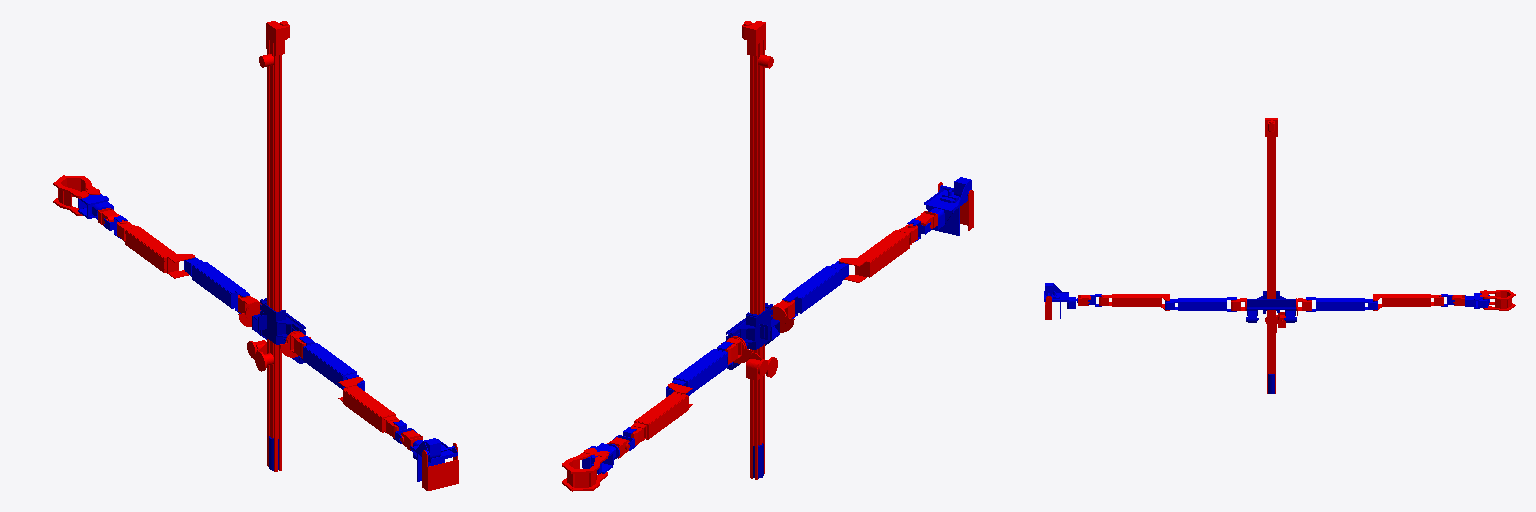
URDF robot description (manipulator):
<?xml version="1.0"?>
<robot name="manipulator">
  <material name="red">
    <color rgba="1.0 0.0 0.0 1.0"/>
  </material>
  <material name="green">
    <color rgba="0.0 1.0 0.0 1.0"/>
  </material>
  <material name="blue">
    <color rgba="0.0 0.0 1.0 1.0"/>
  </material>

  <link name="world"/>
  <joint name="world2base" type="fixed">
    <parent link="world"/>
    <child link="base_link"/>
  </joint>
  <link name="base_link">
    <visual>
      <origin xyz="0 0 0.044" rpy="0 0 0" />
      <geometry>
        <cylinder radius="0.015" length="0.088"/>
      </geometry>
      <material name="blue">
        <color rgba="0 0 .8 1"/>
      </material>
    </visual>
    <inertial>
      <mass value="0.5"/>
      <origin xyz="0 0 0"/>
      <inertia ixx="1.0" ixy="0.0" ixz="0.0" iyy="1.0" iyz="0.0" izz="1.0"/>
    </inertial>

  </link>
  <joint name="spine_joint" type="fixed">
    <parent link="base_link"/>
    <child link="spine_link"/>
  </joint>

  <link name="spine_link">
    <inertial>
      <mass value="0.5"/>
      <origin xyz="0 0 0"/>
      <inertia ixx="1.0" ixy="0.0" ixz="0.0" iyy="1.0" iyz="0.0" izz="1.0"/>
    </inertial>
    <visual>
      <geometry>
        <mesh filename="package://orne_or_description/meshes/body_link.stl"/>
      </geometry>
      <material name="red"/>
    </visual>
    <collision>
      <origin xyz="0 0 0.55" rpy="0 0 0"/>
      <geometry>
        <box size="0.0330 0.0520 1.1"/>
      </geometry>
    </collision>
  </link>

  <joint name="sholder_slider" type="prismatic">
    <origin xyz="0 0 0.4" rpy="0 0 0"/>
    <parent link="spine_link"/>
    <child link="sholder_link"/>
    <axis xyz="0 0 1"/>
    <limit effort="1000" lower="-0.2" upper="1.4" velocity="1.0"/>
  </joint>

  <link name="sholder_link">
    <inertial>
      <mass value="0.5"/>
      <origin xyz="0 0 0"/>
      <inertia ixx="1.0" ixy="0.0" ixz="0.0" iyy="1.0" iyz="0.0" izz="1.0"/>
    </inertial>
    <visual>
      <origin xyz="0 0 0" rpy="0 0 0"/>
      <geometry>
        <mesh filename="package://orne_or_description/meshes/shoulder_link.stl"/>
      </geometry>
      <material name="blue">
        <color rgba="0 0 .8 1"/>
      </material>
    </visual>
    <collision>
      <origin xyz="0.0 0.0 0.0" rpy="0 0 0"/>
      <geometry>
        <box size="0.0330 0.28 0.0320"/>
      </geometry>
    </collision>
  </link>

  <gazebo reference="sholder_link">
    <material>Gazebo/Blue</material>
  </gazebo>
  <transmission name="trans_sholder_slider">
    <type>transmission_interface/SimpleTransmission</type>
    <joint name="sholder_slider">
      <hardwareInterface>PositionJointInterface</hardwareInterface>
    </joint>
    <actuator name="motor_sholder_slider">
      <hardwareInterface>PositionJointInterface</hardwareInterface>
      <mechanicalReduction>1</mechanicalReduction>
    </actuator>
  </transmission>


  <!--left arm-->
  <joint name="l_sholder_pitch_joint" type="revolute">
    <origin xyz="0.000 0.100 0.000"/>
    <parent link="sholder_link"/>
    <child link="l_sholder_pitch_link"/>
    <axis xyz="0 1 0"/> 
    <limit lower="-1" upper="1" effort="30" velocity="1.571"/>
  </joint>

  <link name="l_sholder_pitch_link">
    <inertial>
      <mass value="0.5"/>
      <origin xyz="0 0 0"/>
      <inertia ixx="1.0" ixy="0.0" ixz="0.0" iyy="1.0" iyz="0.0" izz="1.0"/>
    </inertial>
    <visual>
      <geometry>
        <mesh filename="package://orne_or_description/meshes/sholder_pitch_link.stl"/>
      </geometry>
      <material name="red"/>
    </visual>
    <collision>
      <origin xyz="0.0 0.025 0.0"/>
      <geometry>
        <box size="0.0320 0.050 0.0320"/>
      </geometry>
    </collision>
  </link>
  <gazebo reference="l_sholder_pitch_link">
    <material>Gazebo/Red</material>
  </gazebo>
  <transmission name="trans_l_sholder_pitch">
    <type>transmission_interface/SimpleTransmission</type>
    <joint name="l_sholder_pitch_joint">
      <hardwareInterface>PositionJointInterface</hardwareInterface>
    </joint>
    <actuator name="motor_l_sholder_pitch">
      <hardwareInterface>PositionJointInterface</hardwareInterface>
      <mechanicalReduction>1</mechanicalReduction>
    </actuator>
  </transmission>

  <joint name="l_sholder_roll_joint" type="revolute">
    <origin xyz="0.000 0.0563 0.000"/>
    <parent link="l_sholder_pitch_link"/>
    <child link="l_sholder_roll_link"/>
    <axis xyz="0 0 1"/> 
    <limit lower="-1.57" upper="1.57" effort="30" velocity="1.571"/>
  </joint>

  <link name="l_sholder_roll_link">
    <inertial>
      <mass value="0.5"/>
      <origin xyz="0 0 0"/>
      <inertia ixx="1.0" ixy="0.0" ixz="0.0" iyy="1.0" iyz="0.0" izz="1.0"/>
    </inertial>
    <visual>
      <geometry>
        <mesh filename="package://orne_or_description/meshes/sholder_roll_link.stl"/>
      </geometry>
      <material name="blue"/>
    </visual>
    <collision>
      <origin xyz="0.000 0.135 0.000"/>
      <geometry>
        <box size="0.042 0.200 0.042"/>
      </geometry>
    </collision>
  </link>
  <gazebo reference="l_sholder_roll_link">
    <material>Gazebo/Blue</material>
  </gazebo>
  <transmission name="trans_l_sholder_roll">
    <type>transmission_interface/SimpleTransmission</type>
    <joint name="l_sholder_roll_joint">
      <hardwareInterface>PositionJointInterface</hardwareInterface>
    </joint>
    <actuator name="motor_l_sholder_roll">
      <hardwareInterface>PositionJointInterface</hardwareInterface>
      <mechanicalReduction>1</mechanicalReduction>
    </actuator>
  </transmission>

  <joint name="l_elbow_roll_joint" type="revolute">
    <origin xyz="0.000 0.2713 0.000"/>
    <parent link="l_sholder_roll_link"/>
    <child link="l_elbow_roll_link"/>
    <axis xyz="0 0 -1"/> 
    <limit lower="0.0" upper="3.14" effort="30" velocity="1.571"/>
  </joint>

  <link name="l_elbow_roll_link">
    <inertial>
      <mass value="0.5"/>
      <origin xyz="0 0 0"/>
      <inertia ixx="1.0" ixy="0.0" ixz="0.0" iyy="1.0" iyz="0.0" izz="1.0"/>
    </inertial>
    <visual>
      <geometry>
        <mesh filename="package://orne_or_description/meshes/elbow_roll_link.stl"/>
      </geometry>
      <material name="red"/>
    </visual>
    <collision>
      <origin xyz="0.000 0.135 0.000"/>
      <geometry>
        <box size="0.042 0.180 0.042"/>
      </geometry>
    </collision>
  </link>
  <gazebo reference="l_elbow_roll_link">
    <material>Gazebo/Red</material>
  </gazebo>
  <transmission name="trans_l_elbow_roll">
    <type>transmission_interface/SimpleTransmission</type>
    <joint name="l_elbow_roll_joint">
      <hardwareInterface>PositionJointInterface</hardwareInterface>
    </joint>
    <actuator name="motor_l_elbow_roll">
      <hardwareInterface>PositionJointInterface</hardwareInterface>
      <mechanicalReduction>1</mechanicalReduction>
    </actuator>
  </transmission>

  <joint name="l_wrist_roll_joint" type="revolute">
    <origin xyz="-0.042 0.2713 0.000"/>
    <parent link="l_elbow_roll_link"/>
    <child link="l_wrist_roll_link"/>
    <axis xyz="0 0 1"/> 
    <limit lower="-1.57" upper="1.57" effort="30" velocity="1.571"/>
  </joint>

  <link name="l_wrist_roll_link">
    <inertial>
      <mass value="0.5"/>
      <origin xyz="0 0 0"/>
      <inertia ixx="1.0" ixy="0.0" ixz="0.0" iyy="1.0" iyz="0.0" izz="1.0"/>
    </inertial>
    <visual>
      <geometry>
        <mesh filename="package://orne_or_description/meshes/wrist_roll_link.stl"/>
      </geometry>
      <material name="blue"/>
    </visual>
    <collision>
      <origin xyz="0.000 0.016 0.000" rpy="0 0 0"/>
      <geometry>
        <box size="0.0330 0.0320 0.0320"/>
      </geometry>
    </collision>
  </link>
  <gazebo reference="l_wrist_roll_link">
    <material>Gazebo/Blue</material>
  </gazebo>
  <transmission name="trans_l_wrist_roll">
    <type>transmission_interface/SimpleTransmission</type>
    <joint name="l_wrist_roll_joint">
      <hardwareInterface>PositionJointInterface</hardwareInterface>
    </joint>
    <actuator name="motor_l_wrist_roll">
      <hardwareInterface>PositionJointInterface</hardwareInterface>
      <mechanicalReduction>1</mechanicalReduction>
    </actuator>
  </transmission>

  <joint name="l_wrist_pitch_joint" type="revolute">
    <origin xyz="0.000 0.054 0.000"/>
    <parent link="l_wrist_roll_link"/>
    <child link="l_wrist_pitch_link"/>
    <axis xyz="1 0 0"/> 
    <limit lower="-1.57" upper="1.57" effort="30" velocity="1.571"/>
  </joint>

  <link name="l_wrist_pitch_link">
    <inertial>
      <mass value="0.5"/>
      <origin xyz="0 0 0"/>
      <inertia ixx="1.0" ixy="0.0" ixz="0.0" iyy="1.0" iyz="0.0" izz="1.0"/>
    </inertial>
    <visual>
      <geometry>
        <mesh filename="package://orne_or_description/meshes/l_wrist_pitch_link.stl"/>
      </geometry>
      <material name="red"/>
    </visual>
    <collision>
      <origin xyz="0.000 0.016 0.000"/>
      <geometry>
        <box size="0.0330 0.0320 0.0320"/>
      </geometry>
    </collision>
  </link>
  <gazebo reference="l_wrist_pitch_link">
    <material>Gazebo/Red</material>
  </gazebo>
  <transmission name="trans_l_wrist_pitch">
    <type>transmission_interface/SimpleTransmission</type>
    <joint name="l_wrist_pitch_joint">
      <hardwareInterface>PositionJointInterface</hardwareInterface>
    </joint>
    <actuator name="motor_l_wrist_pitch">
      <hardwareInterface>PositionJointInterface</hardwareInterface>
      <mechanicalReduction>1</mechanicalReduction>
    </actuator>
  </transmission>

  <joint name="l_wrist_yaw_joint" type="revolute">
    <origin xyz="0.000 0.0443 0.000"/>
    <parent link="l_wrist_pitch_link"/>
    <child link="l_wrist_yaw_link"/>
    <axis xyz="0 1 0"/> 
    <limit lower="-3.14" upper="3.14" effort="30" velocity="1.571"/>
  </joint>

  <link name="l_wrist_yaw_link">
    <inertial>
      <mass value="0.5"/>
      <origin xyz="0 0 0"/>
      <inertia ixx="1.0" ixy="0.0" ixz="0.0" iyy="1.0" iyz="0.0" izz="1.0"/>
    </inertial>
    <visual>
      <geometry>
        <mesh filename="package://orne_or_description/meshes/l_wrist_yaw_link.stl"/>
      </geometry>
      <material name="blue"/>
    </visual>
    <collision>
      <origin xyz="0 0 0"/>
      <geometry>
        <box size="0.0330 0.0320 0.0320"/>
      </geometry>
    </collision>
  </link>
  <gazebo reference="l_wrist_yaw_link">
    <material>Gazebo/Blue</material>
  </gazebo>
  <transmission name="trans_l_wrist_yaw">
    <type>transmission_interface/SimpleTransmission</type>
    <joint name="l_wrist_yaw_joint">
      <hardwareInterface>PositionJointInterface</hardwareInterface>
    </joint>
    <actuator name="motor_l_wrist_yaw">
      <hardwareInterface>PositionJointInterface</hardwareInterface>
      <mechanicalReduction>1</mechanicalReduction>
    </actuator>
  </transmission>

  <joint name="l_hand_left_joint" type="revolute">
    <origin xyz="-0.0226 0.083 0.000" rpy="0 0 0"/>
    <parent link="l_wrist_yaw_link"/>
    <child link="l_hand_left_link"/>
    <axis xyz="0 0 1"/> 
    <limit lower="0" upper="1.57" effort="30" velocity="1.571"/>
  </joint>

  <link name="l_hand_left_link">
    <inertial>
      <mass value="0.5"/>
      <origin xyz="0 0 0"/>
      <inertia ixx="1.0" ixy="0.0" ixz="0.0" iyy="1.0" iyz="0.0" izz="1.0"/>
    </inertial>
    <visual>
      <geometry>
        <mesh filename="package://orne_or_description/meshes/l_hand_left_link.stl"/>
      </geometry>
      <material name="red"/>
    </visual>
    <collision>
      <origin xyz="0 0 0" rpy="0 0 0"/>
      <geometry>
        <mesh filename="package://orne_or_description/meshes/l_hand_left_link.stl"/>
      </geometry>
    </collision>
  </link>
  <gazebo reference="l_hand_left_link">
    <material>Gazebo/Red</material>
  </gazebo>
  <transmission name="trans_l_hand_left">
    <type>transmission_interface/SimpleTransmission</type>
    <joint name="l_hand_left_joint">
      <hardwareInterface>PositionJointInterface</hardwareInterface>
    </joint>
    <actuator name="motor_l_hand_left">
      <hardwareInterface>PositionJointInterface</hardwareInterface>
      <mechanicalReduction>1</mechanicalReduction>
    </actuator>
  </transmission>
  
   <joint name="l_hand_right_joint" type="revolute">
    <origin xyz="0.0225 0.083 0.000" rpy="0 0 0"/>
    <parent link="l_wrist_yaw_link"/>
    <child link="l_hand_right_link"/>
    <axis xyz="0 0 -1"/>
    <mimic joint="l_hand_left_joint" multiplier="1.0" offset="0.0" /> 
    <limit lower="-3.14" upper="3.14" effort="30" velocity="1.571"/>
  </joint>

  <link name="l_hand_right_link">
    <inertial>
      <mass value="0.5"/>
      <origin xyz="0 0 0"/>
      <inertia ixx="1.0" ixy="0.0" ixz="0.0" iyy="1.0" iyz="0.0" izz="1.0"/>
    </inertial>
    <visual>
      <geometry>
        <mesh filename="package://orne_or_description/meshes/l_hand_right_link.stl"/>
      </geometry>
      <material name="red"/>
    </visual>
    <collision>
      <origin xyz="0 0 0" rpy="0 0 0"/>
      <geometry>
        <mesh filename="package://orne_or_description/meshes/l_hand_right_link.stl"/>
      </geometry>
    </collision>
  </link>
  <gazebo reference="l_hand_right_link">
    <material>Gazebo/Red</material>
  </gazebo>
  <transmission name="trans_l_right_hand">
    <type>transmission_interface/SimpleTransmission</type>
    <joint name="l_hand_right_joint">
      <hardwareInterface>PositionJointInterface</hardwareInterface>
    </joint>
    <actuator name="motor_l_hand_right">
      <hardwareInterface>PositionJointInterface</hardwareInterface>
      <mechanicalReduction>1</mechanicalReduction>
    </actuator>
  </transmission>

  <!--right arm-->

  <joint name="r_sholder_pitch_joint" type="revolute">
    <origin xyz="0.000 -0.100 0.000"/>
    <parent link="sholder_link"/>
    <child link="r_sholder_pitch_link"/>
    <axis xyz="0 1 0"/>
    <limit lower="-1" upper="1" effort="30" velocity="1.571"/>
  </joint>

  <link name="r_sholder_pitch_link">
    <inertial>
      <mass value="0.5"/>
      <origin xyz="0 0 0"/>
      <inertia ixx="1.0" ixy="0.0" ixz="0.0" iyy="1.0" iyz="0.0" izz="1.0"/>
    </inertial>
    <visual>
      <origin rpy="0 0 3.14159"/>
      <geometry>
        <mesh filename="package://orne_or_description/meshes/sholder_pitch_link.stl"/>
      </geometry>
      <material name="red"/>
    </visual>
    <collision>
      <origin xyz="0.0 -0.025 0.0" rpy="0 0 0"/>
      <geometry>
        <box size="0.0330 0.05 0.0320"/>
      </geometry>
    </collision>
  </link>
  <gazebo reference="r_sholder_pitch_link">
    <material>Gazebo/Red</material>
  </gazebo>
  <transmission name="trans_r_sholder_pitch">
    <type>transmission_interface/SimpleTransmission</type>
    <joint name="r_sholder_pitch_joint">
      <hardwareInterface>PositionJointInterface</hardwareInterface>
    </joint>
    <actuator name="motor_r_sholder_pitch">
      <hardwareInterface>PositionJointInterface</hardwareInterface>
      <mechanicalReduction>1</mechanicalReduction>
    </actuator>
  </transmission>

  <joint name="r_sholder_roll_joint" type="revolute">
    <origin xyz="0.000 -0.0563 0.000"/>
    <parent link="r_sholder_pitch_link"/>
    <child link="r_sholder_roll_link"/>
    <axis xyz="0 0 1"/> 
    <limit lower="-1.57" upper="1.57" effort="30" velocity="1.571"/>
  </joint>

  <link name="r_sholder_roll_link">
    <inertial>
      <mass value="0.5"/>
      <origin xyz="0 0 0"/>
      <inertia ixx="1.0" ixy="0.0" ixz="0.0" iyy="1.0" iyz="0.0" izz="1.0" />
    </inertial>
    <visual>
      <origin rpy="0 0 3.14159"/>
      <geometry>
        <mesh filename="package://orne_or_description/meshes/sholder_roll_link.stl"/>
      </geometry>
      <material name="blue"/>
    </visual>
    <collision>
      <origin xyz="0.0 0.0 -0.09" rpy="0 0 0"/>
      <geometry>
        <box size="0.0330 0.0320 0.180"/>
      </geometry>
    </collision>
  </link>
  <gazebo reference="r_sholder_roll_link">
    <material>Gazebo/Blue</material>
  </gazebo>
  <transmission name="trans_r_sholder_roll">
    <type>transmission_interface/SimpleTransmission</type>
    <joint name="r_sholder_roll_joint">
      <hardwareInterface>PositionJointInterface</hardwareInterface>
    </joint>
    <actuator name="motor_r_sholder_roll">
      <hardwareInterface>PositionJointInterface</hardwareInterface>
      <mechanicalReduction>1</mechanicalReduction>
    </actuator>
  </transmission>

  <joint name="r_elbow_roll_joint" type="revolute">
    <origin xyz="0.000 -0.2713 0.000"/>
    <parent link="r_sholder_roll_link"/>
    <child link="r_elbow_roll_link"/>
    <axis xyz="0 0 1"/> 
    <limit lower="0.0" upper="3.14" effort="30" velocity="1.571"/>
  </joint>

  <link name="r_elbow_roll_link">
    <inertial>
      <mass value="0.5"/>
      <origin xyz="0 0 0"/>
      <inertia ixx="1.0" ixy="0.0" ixz="0.0" iyy="1.0" iyz="0.0" izz="1.0"/>
    </inertial>
    <visual>
      <origin rpy="0 3.14159 3.14159"/>
      <geometry>
        <mesh filename="package://orne_or_description/meshes/elbow_roll_link.stl"/>
      </geometry>
      <material name="red"/>
    </visual>
    <collision>
      <origin xyz="0.0 0.04 -0.09" rpy="0 0 0"/>
      <geometry>
        <box size="0.0330 0.0320 0.180"/>
      </geometry>
    </collision>
  </link>
  <gazebo reference="r_elbow_roll_link">
    <material>Gazebo/Red</material>
  </gazebo>
  <transmission name="trans_r_elbow_roll">
    <type>transmission_interface/SimpleTransmission</type>
    <joint name="r_elbow_roll_joint">
      <hardwareInterface>PositionJointInterface</hardwareInterface>
    </joint>
    <actuator name="motor_r_elbow_roll">
      <hardwareInterface>PositionJointInterface</hardwareInterface>
      <mechanicalReduction>1</mechanicalReduction>
    </actuator>
  </transmission>

  <joint name="r_wrist_roll_joint" type="revolute">
    <origin xyz="-0.042 -0.2713 0.000"/>
    <parent link="r_elbow_roll_link"/>
    <child link="r_wrist_roll_link"/>
    <axis xyz="0 0 1"/> 
    <limit lower="-1.57" upper="1.57" effort="30" velocity="1.571"/>
  </joint>

  <link name="r_wrist_roll_link">
    <inertial>
      <mass value="0.5"/>
      <origin xyz="0 0 0"/>
      <inertia ixx="1.0" ixy="0.0" ixz="0.0" iyy="1.0" iyz="0.0" izz="1.0"/>
    </inertial>
    <visual>
      <origin rpy="0 0 3.14159"/>
      <geometry>
        <mesh filename="package://orne_or_description/meshes/wrist_roll_link.stl"/>
      </geometry>
      <material name="blue"/>
    </visual>
    <collision>
      <origin xyz="0.0 0.0 -0.016" rpy="0 0 0"/>
      <geometry>
        <box size="0.0330 0.0320 0.0320"/>
      </geometry>
    </collision>
  </link>
  <gazebo reference="r_wrist_roll_link">
    <material>Gazebo/Blue</material>
  </gazebo>
  <transmission name="trans_r_wrist_roll">
    <type>transmission_interface/SimpleTransmission</type>
    <joint name="r_wrist_roll_joint">
      <hardwareInterface>PositionJointInterface</hardwareInterface>
    </joint>
    <actuator name="motor_r_wrist_roll">
      <hardwareInterface>PositionJointInterface</hardwareInterface>
      <mechanicalReduction>1</mechanicalReduction>
    </actuator>
  </transmission>

  <joint name="r_wrist_pitch_joint" type="revolute">
    <origin xyz="0.000 -0.054 0.000"/>
    <parent link="r_wrist_roll_link"/>
    <child link="r_wrist_pitch_link"/>
    <axis xyz="1 0 0"/> 
    <limit lower="-1.57" upper="1.57" effort="30" velocity="1.571"/>
  </joint>

  <link name="r_wrist_pitch_link">
    <inertial>
      <mass value="0.5"/>
      <origin xyz="0 0 0"/>
      <inertia ixx="1.0" ixy="0.0" ixz="0.0" iyy="1.0" iyz="0.0" izz="1.0"/>
    </inertial>
    <visual>
      <geometry>
        <mesh filename="package://orne_or_description/meshes/r_wrist_pitch_link.stl"/>
      </geometry>
      <material name="red"/>
    </visual>
    <collision>
      <origin xyz="0.0 0.0 -0.016" rpy="0 0 0"/>
      <geometry>
        <box size="0.0330 0.0320 0.0320"/>
      </geometry>
    </collision>
  </link>
  <gazebo reference="r_wrist_pitch_link">
    <material>Gazebo/Red</material>
  </gazebo>
  <transmission name="trans_r_wrist_pitch">
    <type>transmission_interface/SimpleTransmission</type>
    <joint name="r_wrist_pitch_joint">
      <hardwareInterface>PositionJointInterface</hardwareInterface>
    </joint>
    <actuator name="motor_r_wrist_pitch">
      <hardwareInterface>PositionJointInterface</hardwareInterface>
      <mechanicalReduction>1</mechanicalReduction>
    </actuator>
  </transmission>

  <joint name="r_wrist_yaw_joint" type="revolute">
    <origin xyz="0.000 -0.0443 0.000"/>
    <parent link="r_wrist_pitch_link"/>
    <child link="r_wrist_yaw_link"/>
    <axis xyz="0 1 0"/> 
    <limit lower="-3.14" upper="3.14" effort="30" velocity="1.571"/>
  </joint>

  <link name="r_wrist_yaw_link">
    <inertial>
      <mass value="0.5"/>
      <origin xyz="0 0 0"/>
      <inertia ixx="1.0" ixy="0.0" ixz="0.0" iyy="1.0" iyz="0.0" izz="1.0"/>
    </inertial>
    <visual>
      <geometry>
        <mesh filename="package://orne_or_description/meshes/r_wrist_yaw_link.stl"/>
      </geometry>
      <material name="blue"/>
    </visual>
    <collision>
      <origin xyz="0.0 0.0 -0.016"/>
      <geometry>
        <box size="0.0330 0.0320 0.0320"/>
      </geometry>
    </collision>
  </link>
  <gazebo reference="r_wrist_yaw_link">
    <material>Gazebo/Blue</material>
  </gazebo>
  <transmission name="trans_r_wrist_yaw">
    <type>transmission_interface/SimpleTransmission</type>
    <joint name="r_wrist_yaw_joint">
      <hardwareInterface>PositionJointInterface</hardwareInterface>
    </joint>
    <actuator name="motor_r_wrist_yaw">
      <hardwareInterface>PositionJointInterface</hardwareInterface>
      <mechanicalReduction>1</mechanicalReduction>
    </actuator>
  </transmission>

  <joint name="r_hand_joint" type="revolute">
    <origin xyz="0.000 -0.119 0.0295"/>
    <parent link="r_wrist_yaw_link"/>
    <child link="r_hand_link"/>
    <axis xyz="1 0 0"/> 
    <limit lower="0" upper="1.57" effort="30" velocity="1.571"/>
  </joint>

  <link name="r_hand_link">
    <inertial>
      <mass value="0.5"/>
      <origin xyz="0 0 0"/>
      <inertia ixx="1.0" ixy="0.0" ixz="0.0" iyy="1.0" iyz="0.0" izz="1.0"/>
    </inertial>
    <visual>
      <geometry>
        <mesh filename="package://orne_or_description/meshes/r_hand_link.stl"/>
      </geometry>
      <material name="red"/>
    </visual>
    <collision>
      <geometry>
        <mesh filename="package://orne_or_description/meshes/r_hand_link.stl"/>
      </geometry>
    </collision>
  </link>
  <gazebo reference="r_hand_link">
    <material>Gazebo/Red</material>
  </gazebo>
  <transmission name="trans_r_hand">
    <type>transmission_interface/SimpleTransmission</type>
    <joint name="r_hand_link">
      <hardwareInterface>PositionJointInterface</hardwareInterface>
    </joint>
    <actuator name="motor_r_hand">
      <hardwareInterface>PositionJointInterface</hardwareInterface>
      <mechanicalReduction>1</mechanicalReduction>
    </actuator>
  </transmission>

  <gazebo>
    <plugin name="gazebo_ros_control" filename="libgazebo_ros_control.so">
      <robotNamespace>/manipulator</robotNamespace>
    </plugin>
  </gazebo>
</robot>

--- Facts derived from the render (not from the file) ---
3 views of the same robot in one strip: view 1: azimuth 30°, elevation 25°; view 2: azimuth 150°, elevation 25°; view 3: azimuth 270°, elevation 25° (orthographic).
Model manipulator with 19 links and 18 joints (15 revolute, 1 prismatic, 2 fixed), rooted at world, posed every joint at zero.
Links seen in each view (by area): view 1: spine_link, l_elbow_roll_link, r_elbow_roll_link, l_sholder_roll_link, r_sholder_roll_link, sholder_link, r_hand_link, r_wrist_yaw_link, l_hand_left_link, l_wrist_yaw_link; view 2: spine_link, r_elbow_roll_link, l_elbow_roll_link, r_wrist_yaw_link, r_sholder_roll_link, sholder_link, l_sholder_roll_link, l_hand_left_link, l_wrist_yaw_link, r_sholder_pitch_link; view 3: spine_link, sholder_link, r_elbow_roll_link, l_elbow_roll_link, l_sholder_roll_link, r_sholder_roll_link.
Boxes of the visible links, bbox=[...] form: spine_link: bbox=[247, 21, 289, 471]; l_elbow_roll_link: bbox=[117, 220, 194, 278]; r_elbow_roll_link: bbox=[338, 377, 399, 438]; l_sholder_roll_link: bbox=[184, 257, 249, 313]; r_sholder_roll_link: bbox=[299, 336, 364, 390]; sholder_link: bbox=[252, 298, 305, 363]; r_hand_link: bbox=[422, 443, 458, 490]; r_wrist_yaw_link: bbox=[410, 438, 457, 481]; l_hand_left_link: bbox=[53, 176, 88, 215]; l_wrist_yaw_link: bbox=[78, 194, 113, 219]; spine_link: bbox=[742, 21, 777, 479]; r_elbow_roll_link: bbox=[839, 224, 917, 282]; l_elbow_roll_link: bbox=[631, 383, 692, 445]; r_wrist_yaw_link: bbox=[924, 177, 971, 235]; r_sholder_roll_link: bbox=[782, 261, 848, 318]; sholder_link: bbox=[726, 303, 779, 369]; l_sholder_roll_link: bbox=[666, 341, 732, 396]; l_hand_left_link: bbox=[572, 451, 609, 491]; l_wrist_yaw_link: bbox=[582, 443, 619, 474]; r_sholder_pitch_link: bbox=[771, 300, 794, 332]; spine_link: bbox=[1265, 118, 1285, 393]; sholder_link: bbox=[1246, 291, 1296, 322]; r_elbow_roll_link: bbox=[1099, 294, 1169, 310]; l_elbow_roll_link: bbox=[1373, 294, 1443, 310]; l_sholder_roll_link: bbox=[1306, 297, 1377, 311]; r_sholder_roll_link: bbox=[1165, 297, 1236, 311].
Bounding box of the posed robot: 0.1336 × 1.94 × 1.24 m (x, y, z).
Meshes: 13 distinct files referenced, 17 mesh visuals loaded (13 binary STL).
